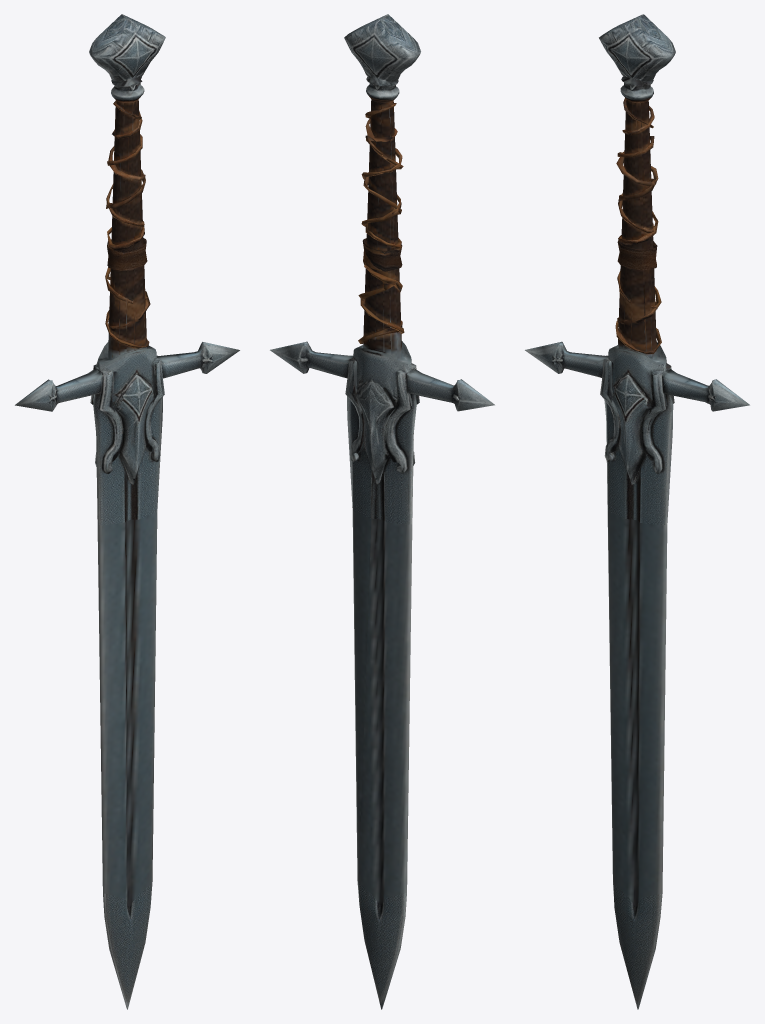
The model's file is dagger.glb.
3 renders of one model, left to right at view 1: azimuth 30°, elevation 25°; view 2: azimuth 150°, elevation 25°; view 3: azimuth 330°, elevation 25°, orthographic.
Size of the model in its own units: 0.2271 by 0.9512 by 0.043.
1 material, 1 textured.
